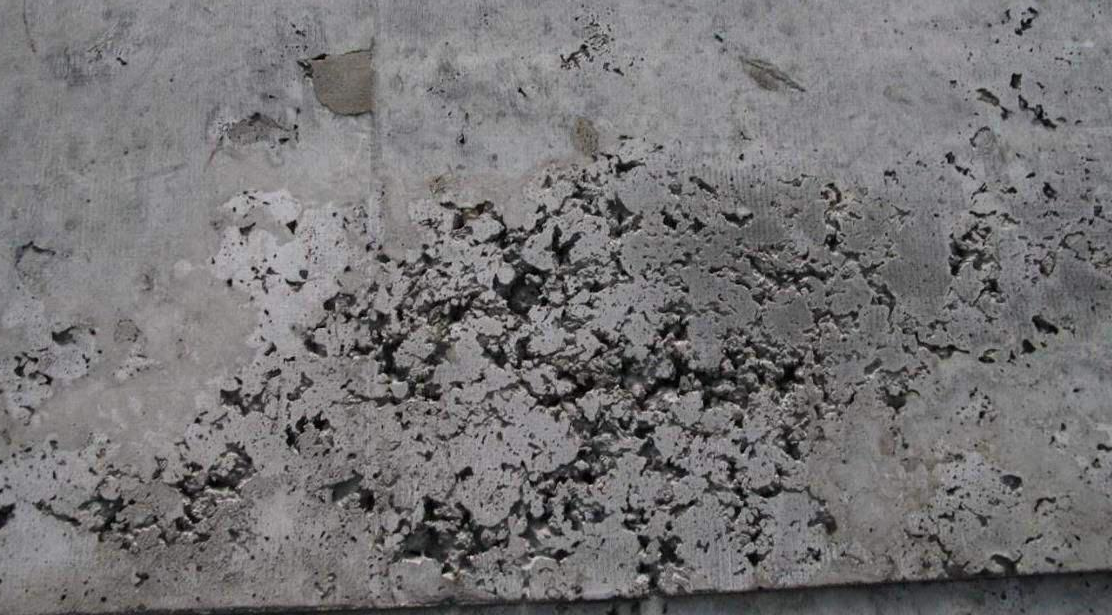Spalling: (1, 1, 1112, 615)
